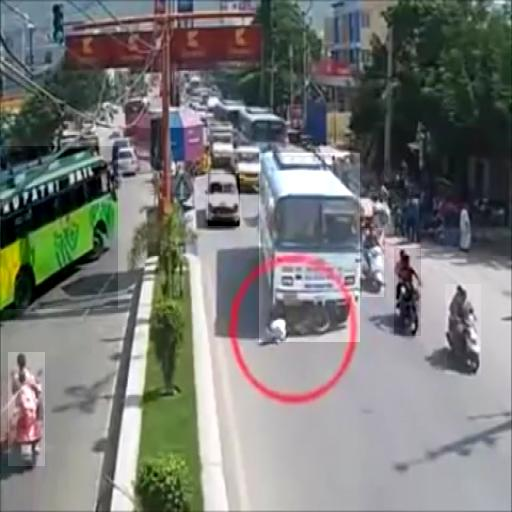小汽车: (1, 146, 118, 309)
小汽车撞自行车: (259, 153, 360, 342)
自行车: (8, 352, 45, 466), (445, 284, 481, 374), (394, 248, 421, 336), (208, 173, 240, 226), (362, 228, 384, 297)
